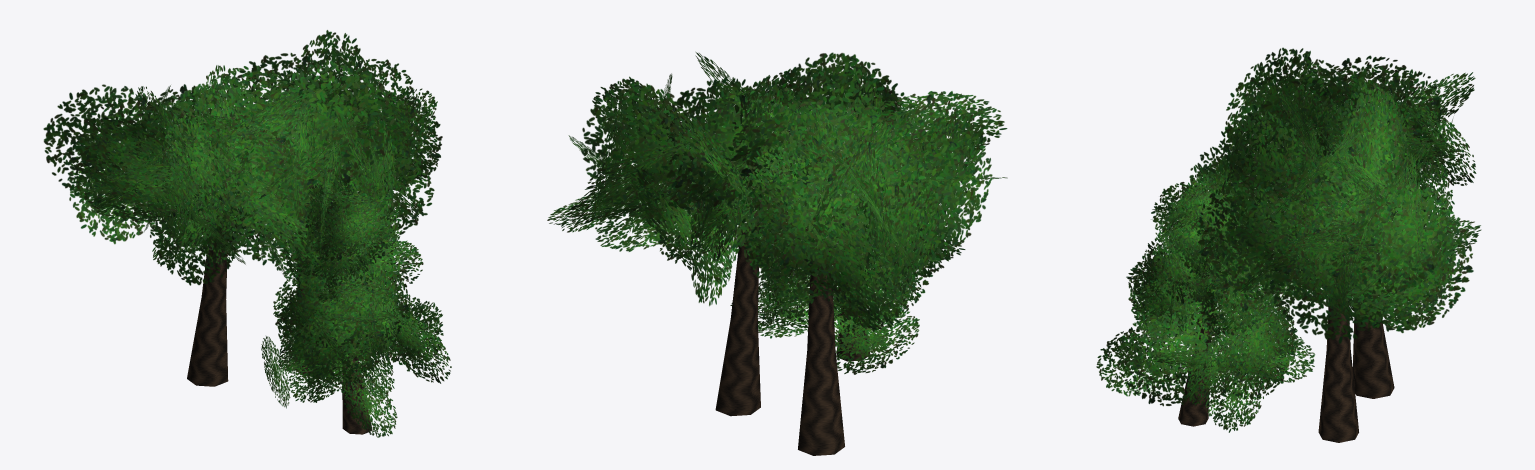
Rendered from clump_a.glb.
The picture shows the model from 3 angles, left to right: view 1: azimuth 30°, elevation 25°; view 2: azimuth 150°, elevation 25°; view 3: azimuth 270°, elevation 25°; orthographic projection. The views are drawn at different scales.
Parts seen in each view (by area): view 1: clump_a; view 2: clump_a; view 3: clump_a.
Boxes of the visible parts, bbox=[...] form: clump_a: bbox=[43, 30, 451, 437]; clump_a: bbox=[547, 52, 1007, 455]; clump_a: bbox=[1096, 47, 1481, 442].
Size of the model in its own units: 2.04 by 1.58 by 1.79.
2 materials, 2 textured.
